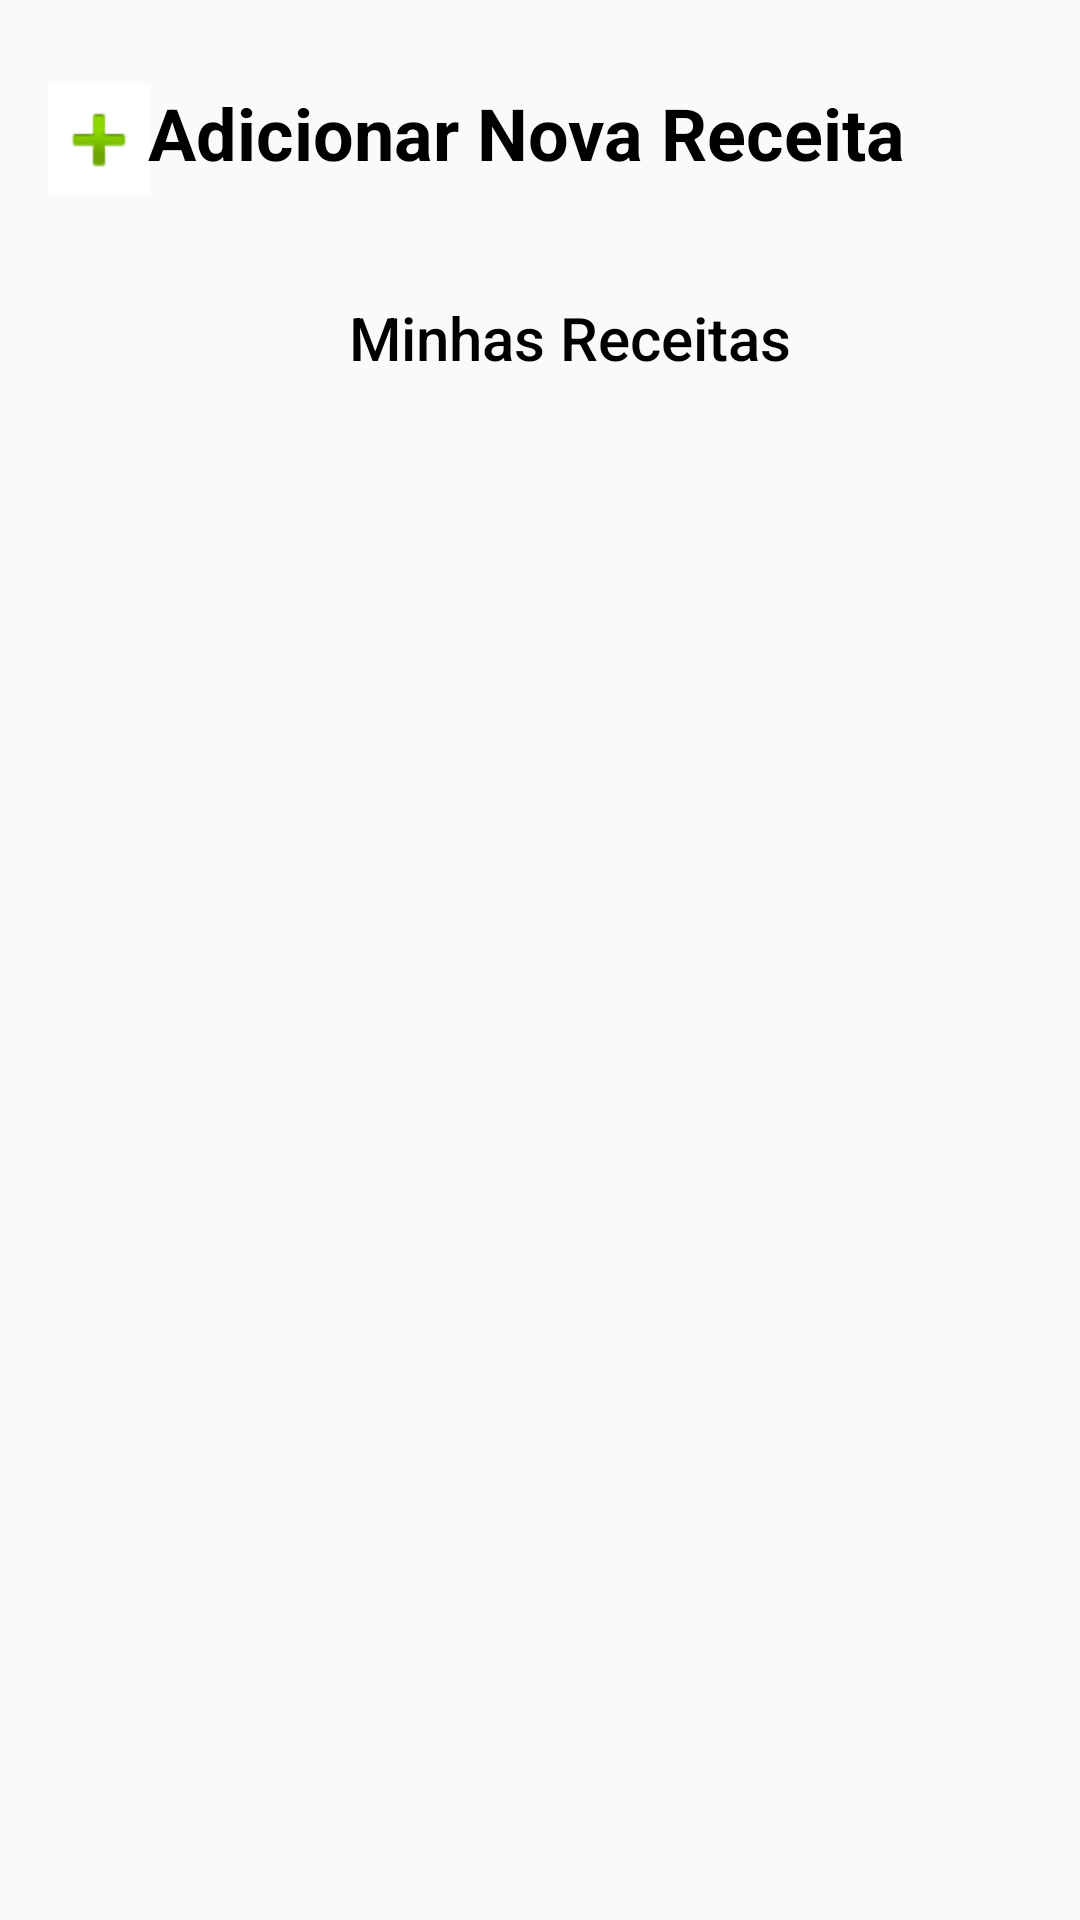

Icon click points for this 1080x1920 phone screenshot, format [x,y]:
add: [99,140]
